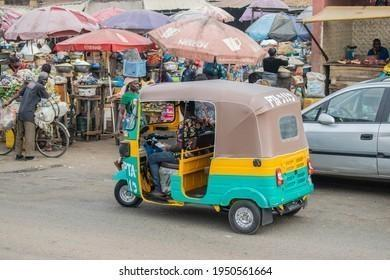keke: (114, 82, 312, 232)
